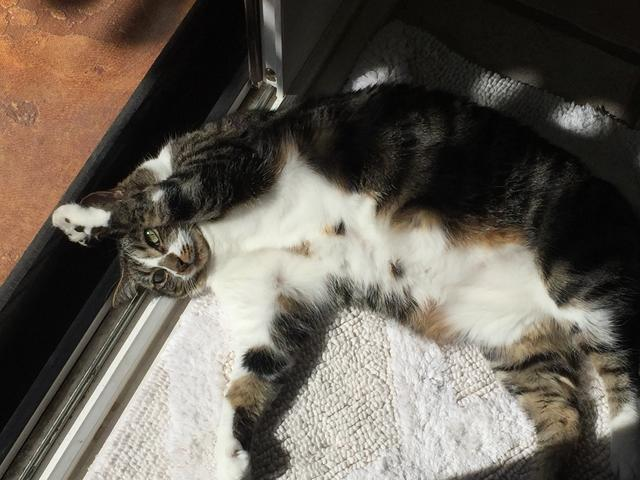playdoh: (48, 86, 640, 480)
